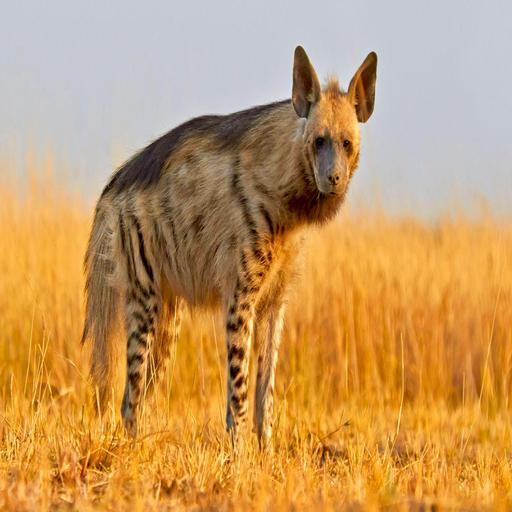Hyena: (78, 43, 388, 469)
